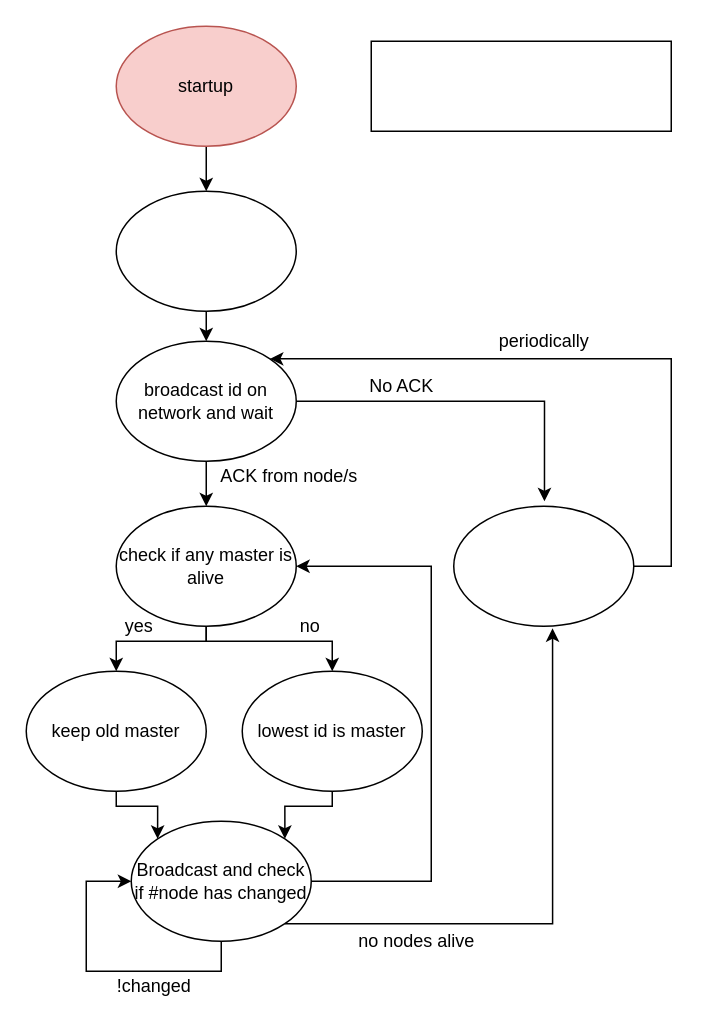
This 710x1028 diagram has some shape labels left out. The shapes that lost their labels are listed below. From the top down, each one's centre as x and y in pixels, then its label:
point 520,85: enum(signle_master, master, slave)
point 205,250: read id from backup/commandline
point 543,565: Singe elevator mode
